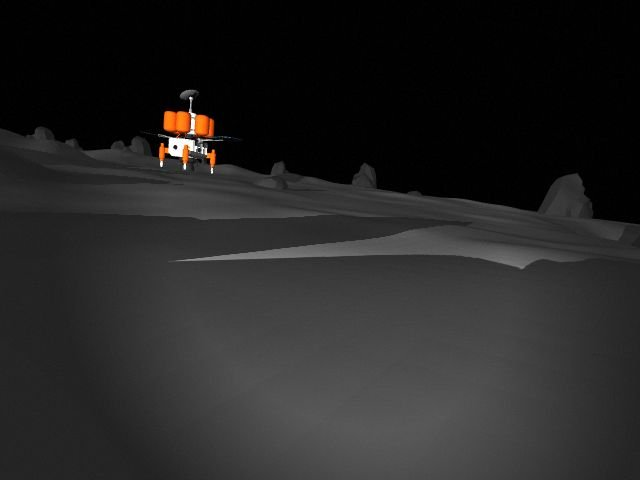homebase: (134, 89, 245, 178)
